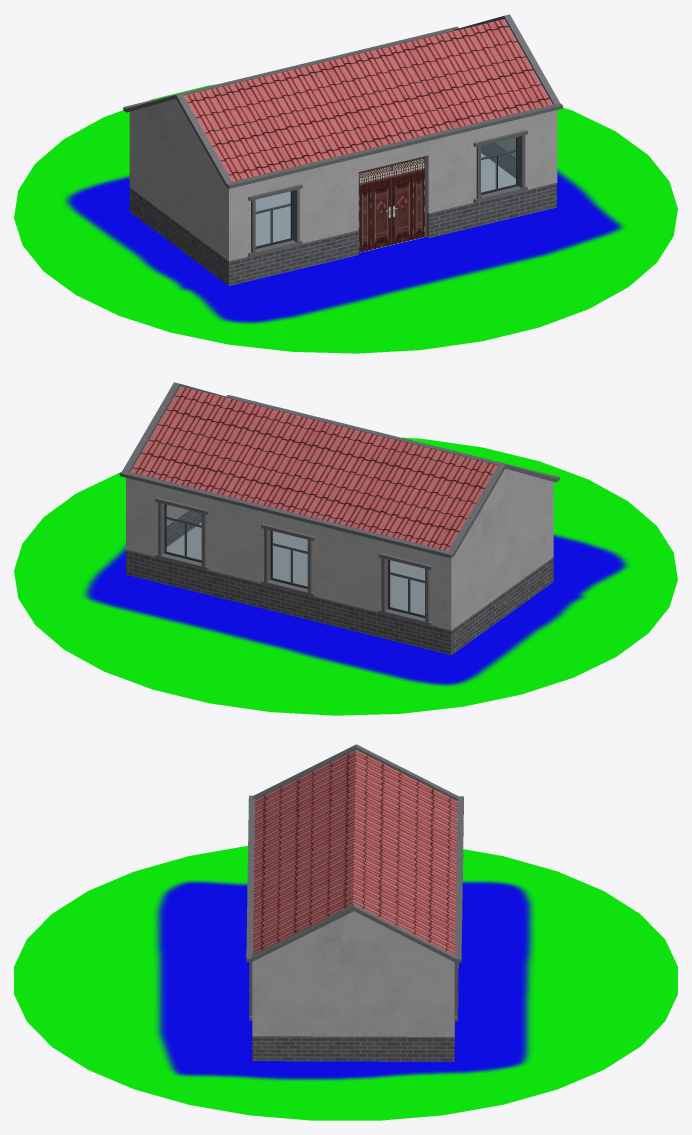
Rendered from building001.glb.
The picture shows the model from 3 angles, top to bottom: view 1: azimuth 30°, elevation 25°; view 2: azimuth 150°, elevation 25°; view 3: azimuth 270°, elevation 25°; orthographic projection.
Parts seen in each view (by area): view 1: 瓦4360, 圆形地面1; view 2: 瓦4360, 圆形地面1; view 3: 圆形地面1, 瓦4360.
Boxes of the visible parts, box(x1,y1,x2,y2) form: 瓦4360: box(123, 14, 562, 285); 圆形地面1: box(14, 84, 677, 353); 瓦4360: box(119, 382, 559, 655); 圆形地面1: box(14, 437, 677, 715); 圆形地面1: box(14, 846, 677, 1120); 瓦4360: box(246, 744, 463, 1061).
Bounding box in the file's own units: 18.99 × 4.94 × 18.99.
11 materials, 9 textured.
